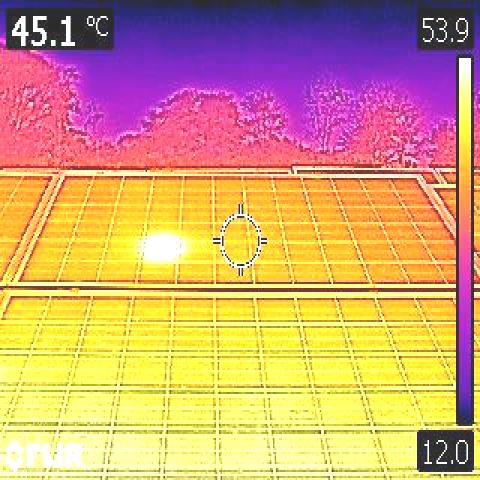fault: (146, 233, 178, 261)
